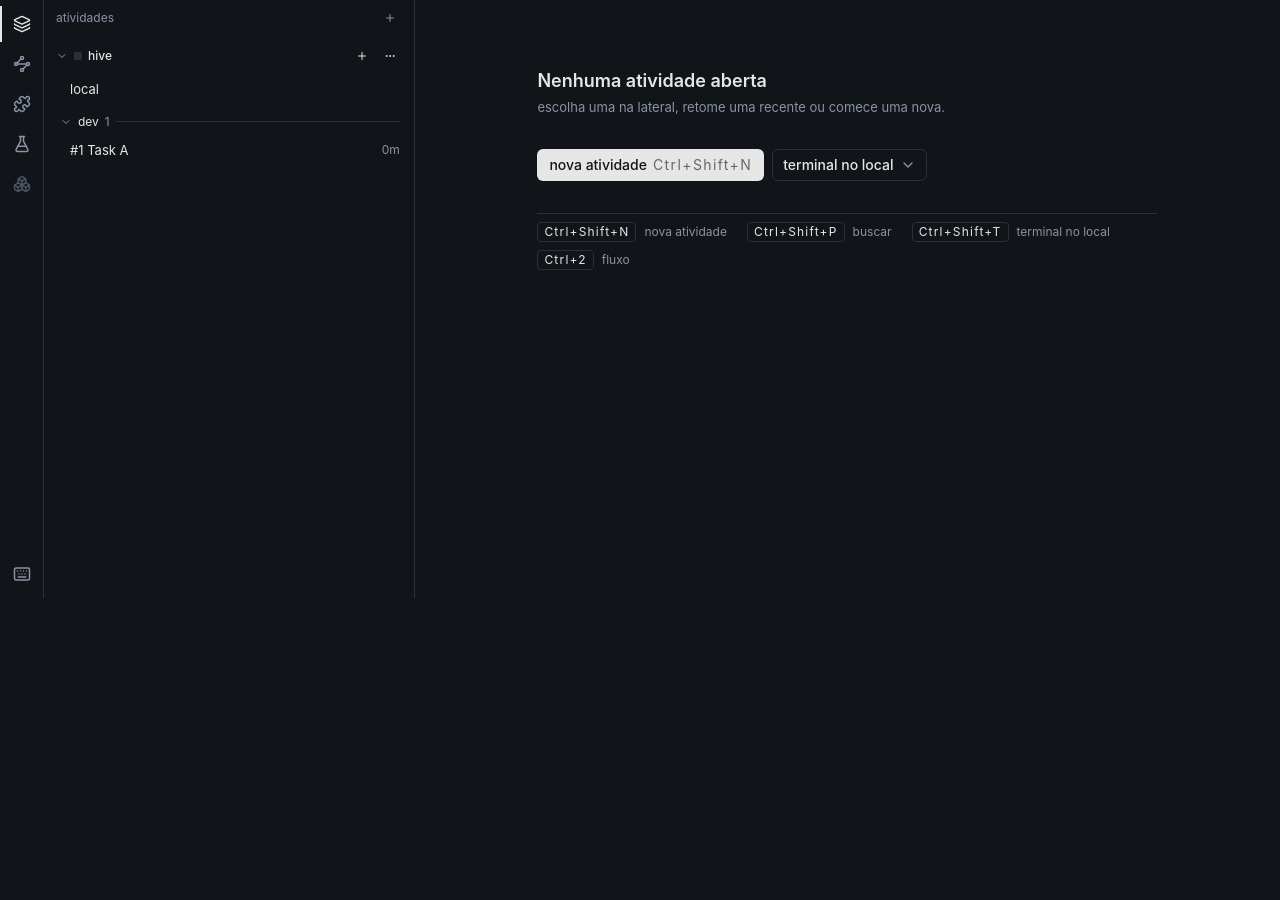
a task's ↵ opens the Start dialog on it, and + criar tarefa opens it with the typed title (#584)
Press P
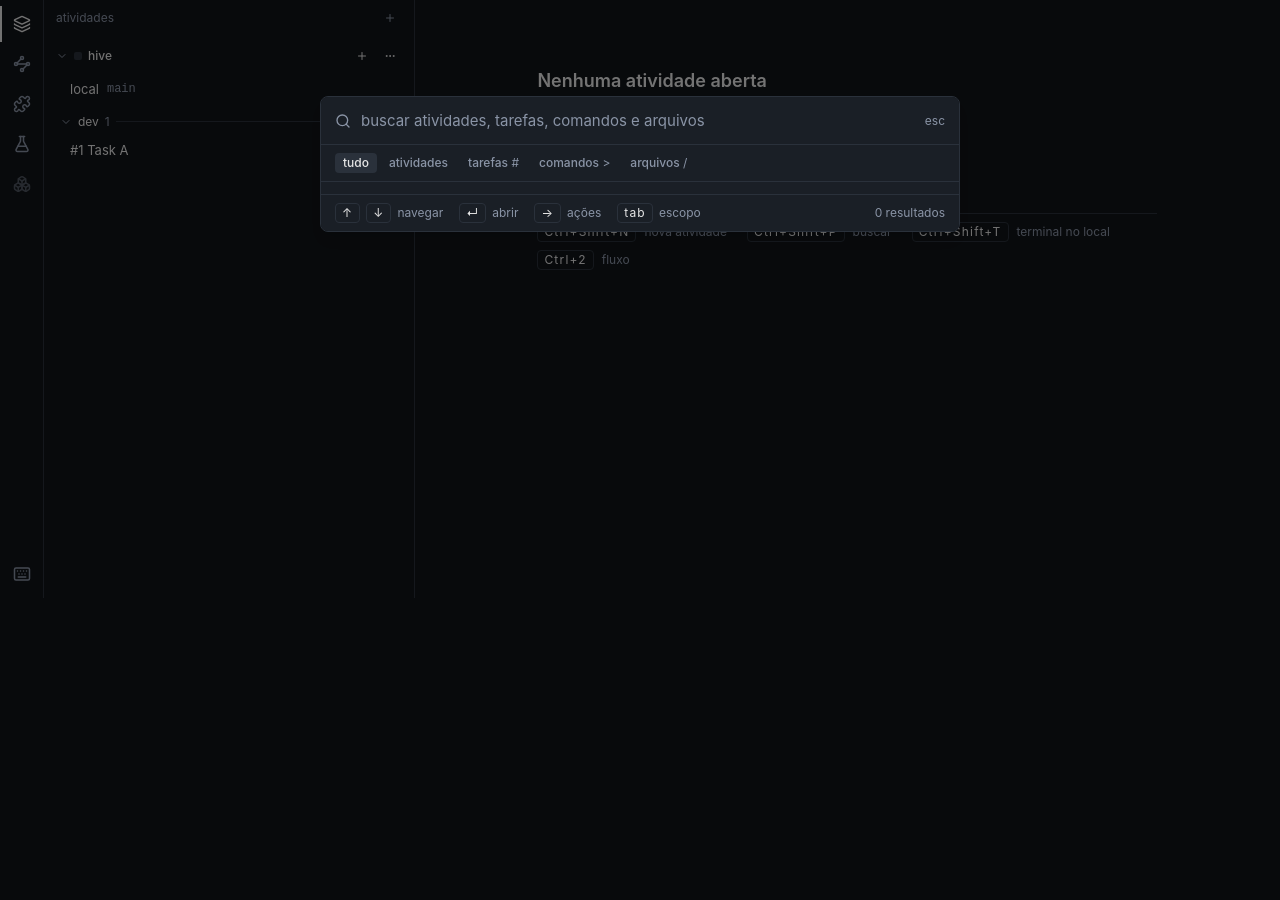
Type keys "task b{Enter}"
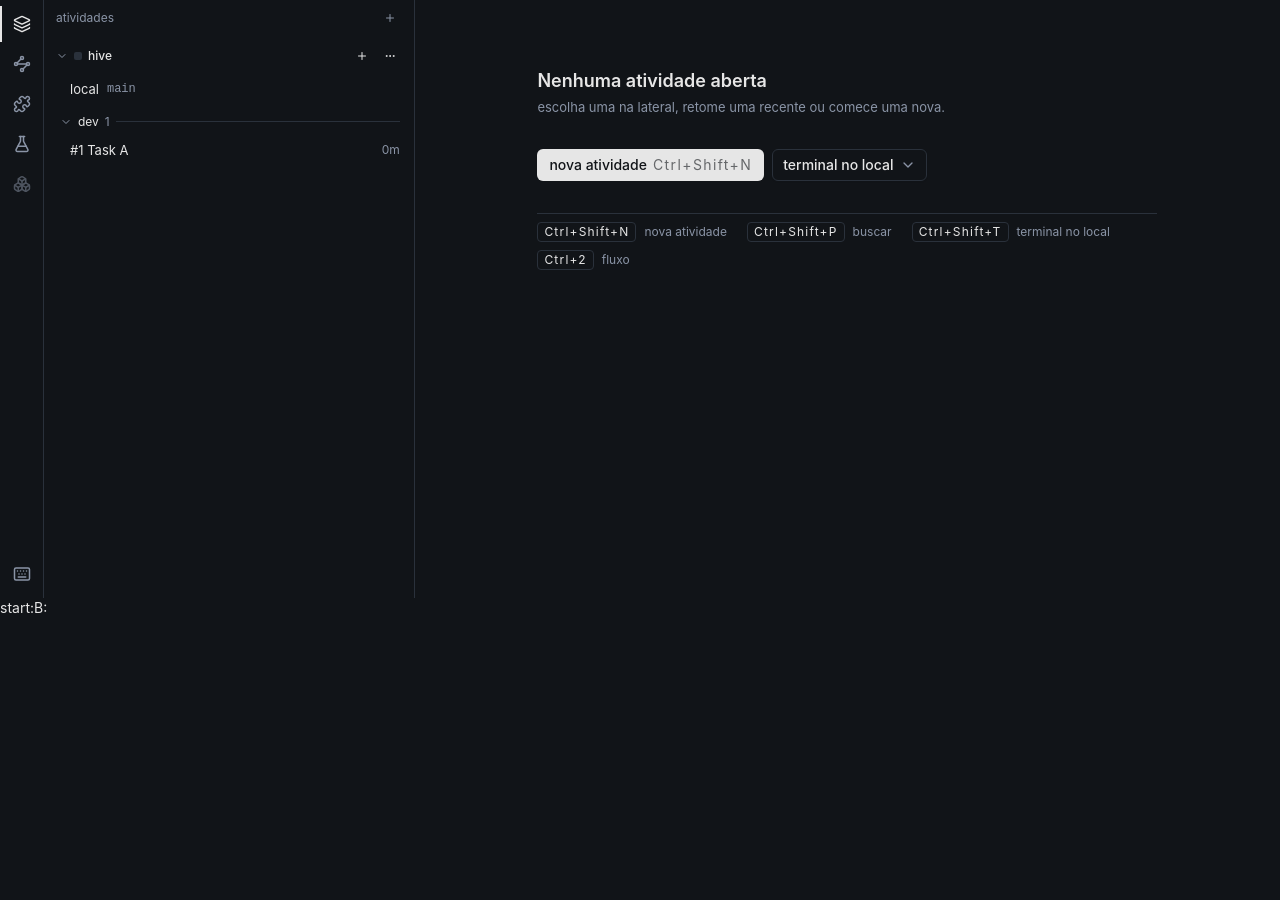
Now the text "start:B:" is shown, box [0, 599, 47, 616]
Press P
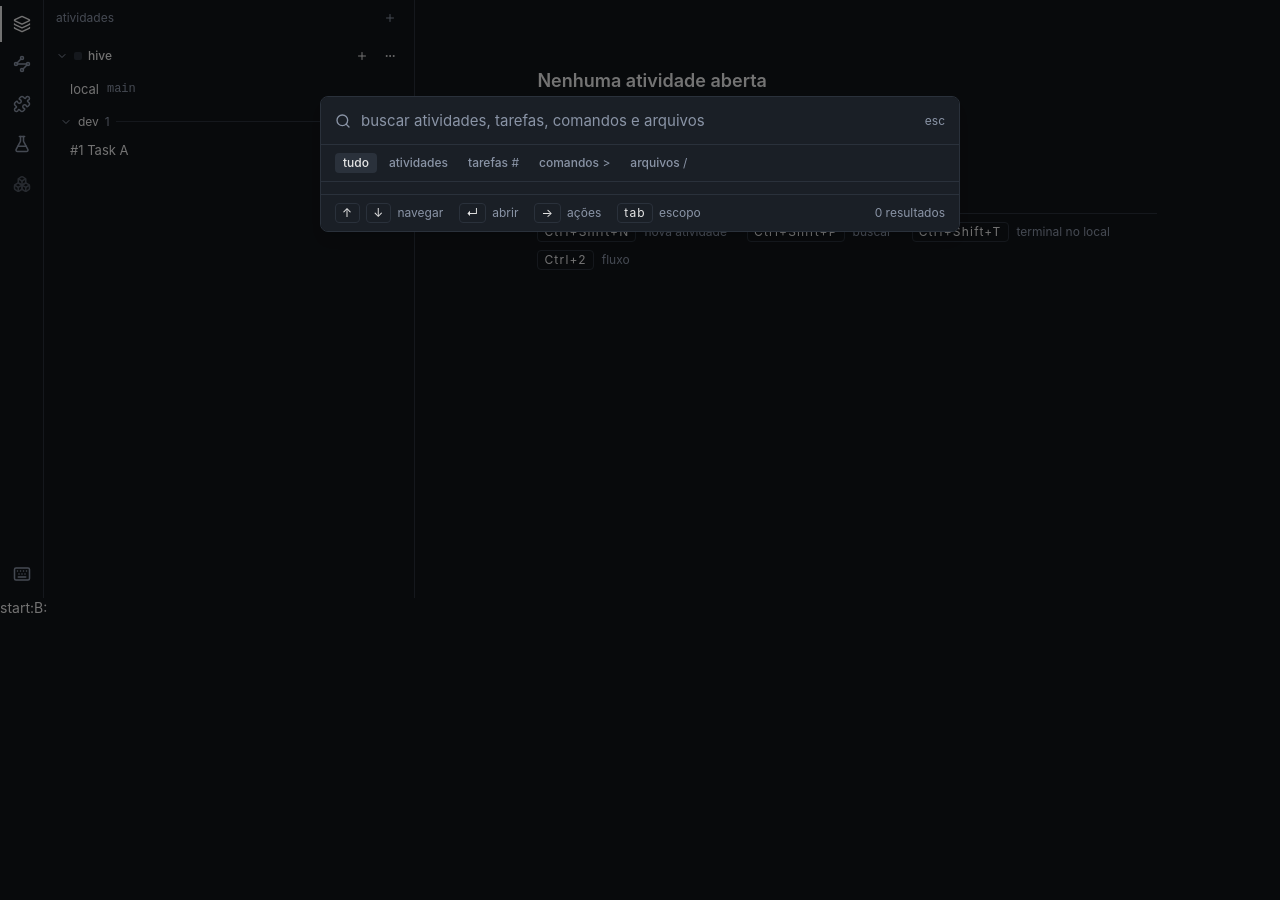
Type keys "#nothing like it"
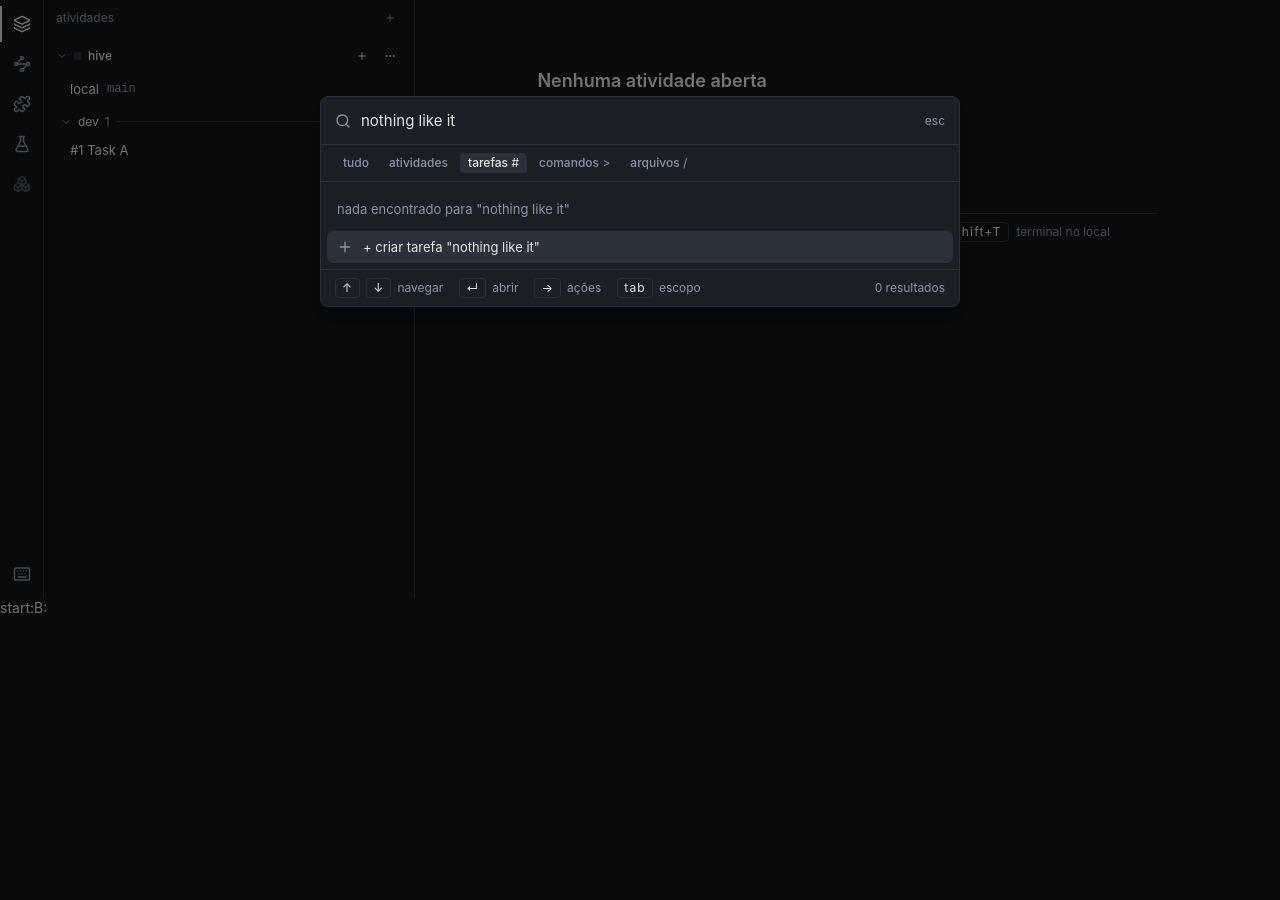
Click the option "+ criar tarefa \"nothing like it\"" at (451, 247), box [327, 231, 953, 263]
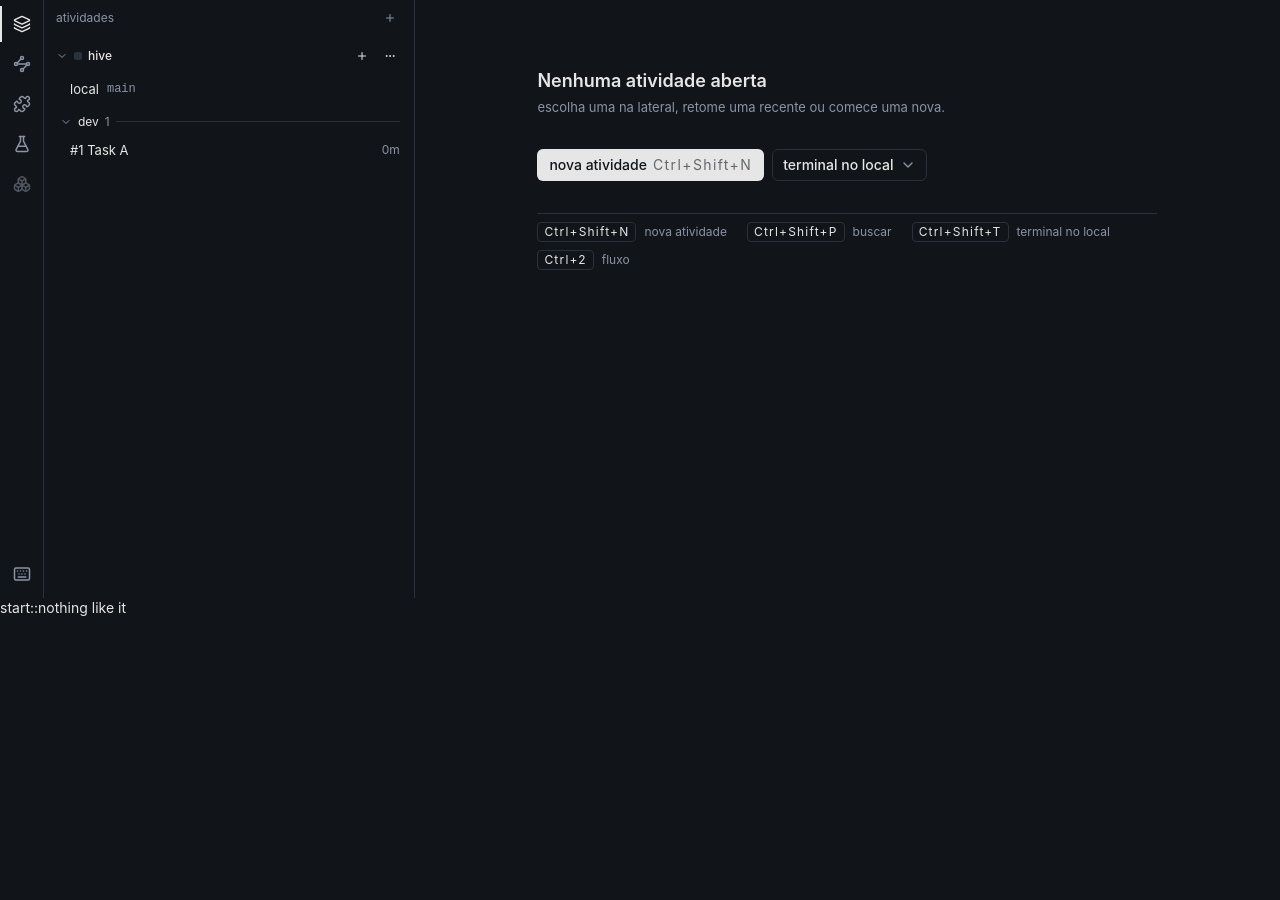
Now the text "start::nothing like it" is shown, box [0, 599, 126, 616]
